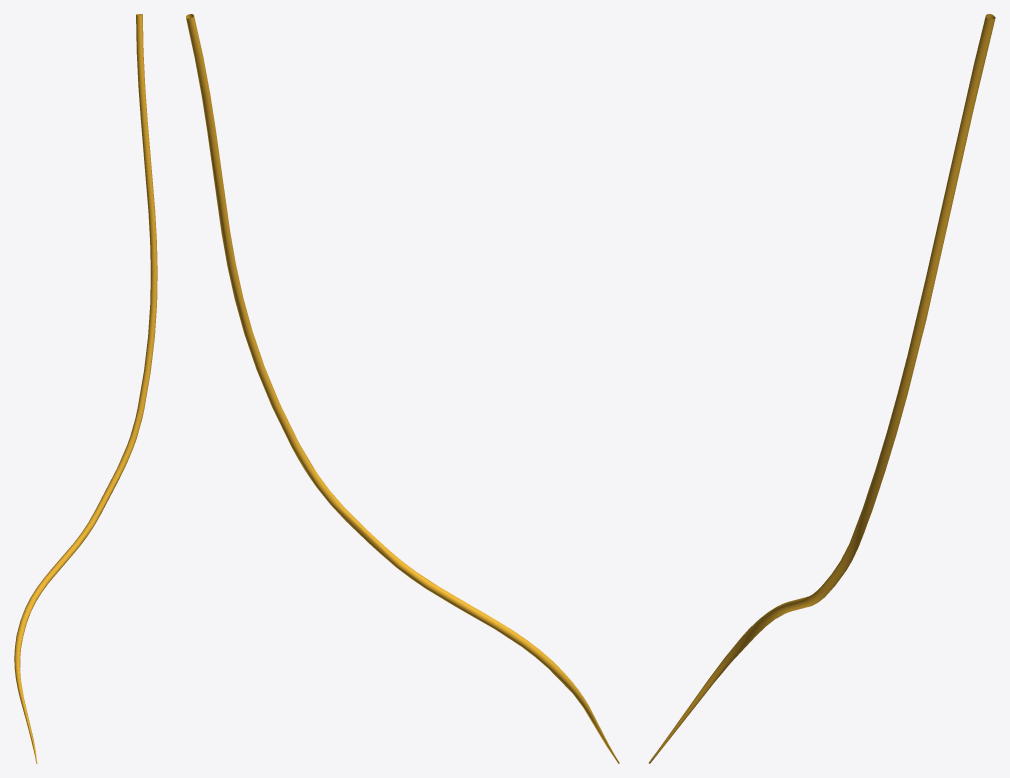
Rendered from nervoso-palmar-branch-of-median-nerve-r.glb.
3 views of the same model, side by side, from view 1: azimuth 30°, elevation 25°; view 2: azimuth 150°, elevation 25°; view 3: azimuth 270°, elevation 25° (orthographic). The views are drawn at different scales.
Parts seen in each view (by area): view 1: Palmar branch of median nerve.r; view 2: Palmar branch of median nerve.r; view 3: Palmar branch of median nerve.r.
Boxes of the visible parts, bbox=[...] form: Palmar branch of median nerve.r: bbox=[14, 14, 157, 763]; Palmar branch of median nerve.r: bbox=[186, 14, 619, 763]; Palmar branch of median nerve.r: bbox=[648, 14, 995, 763].
Size of the model in its own units: 0.0373 by 0.0986 by 0.0343.
